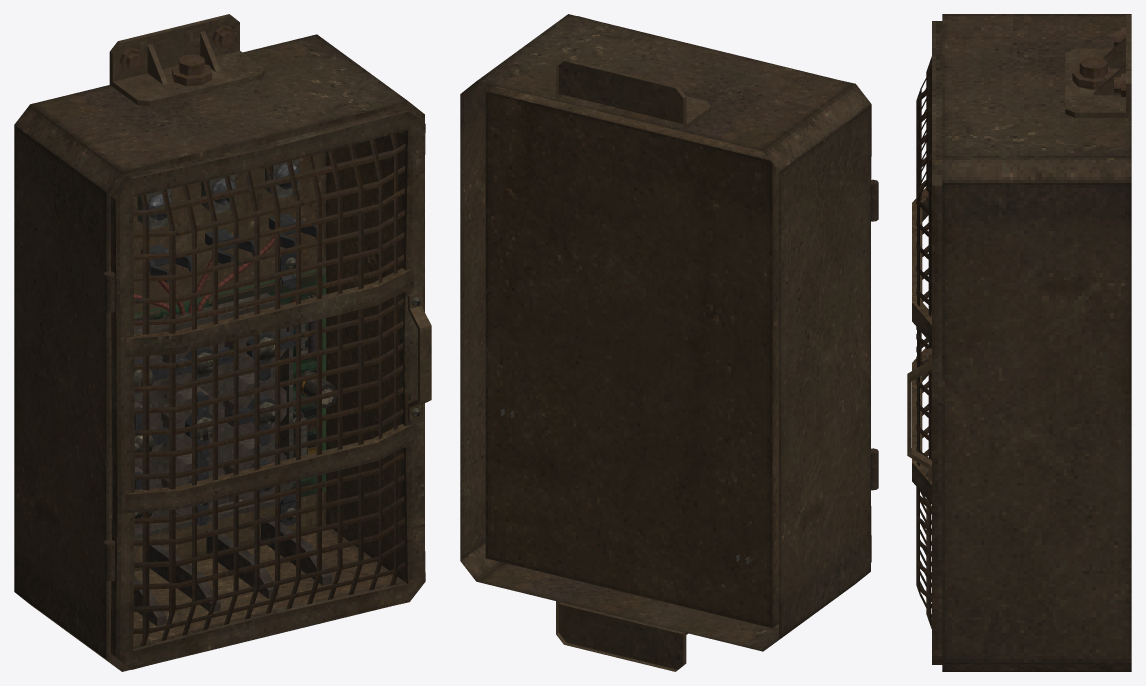
File: fuse_box_etx_1.glb
3 renders of one model, left to right at view 1: azimuth 30°, elevation 25°; view 2: azimuth 150°, elevation 25°; view 3: azimuth 270°, elevation 25°, orthographic. The views are drawn at different scales.
Parts seen in each view (by area): view 1: fuse_box_etx_1, fuse_box_etx_1_door, fuse_box_etx_1_puzzle_piece_child; view 2: fuse_box_etx_1, fuse_box_etx_1_door; view 3: fuse_box_etx_1, fuse_box_etx_1_door.
Boxes of the visible parts, x1,y1,x2,y2 form: fuse_box_etx_1: (14,14,424,671); fuse_box_etx_1_door: (103,107,431,669); fuse_box_etx_1_puzzle_piece_child: (134,355,168,402); fuse_box_etx_1: (460,14,870,671); fuse_box_etx_1_door: (578,16,878,562); fuse_box_etx_1: (942,14,1131,671); fuse_box_etx_1_door: (907,21,942,664).
Bounding box in the file's own units: 0.5465 × 0.945 × 0.32.
Materials: 2 (2 with a texture image).
